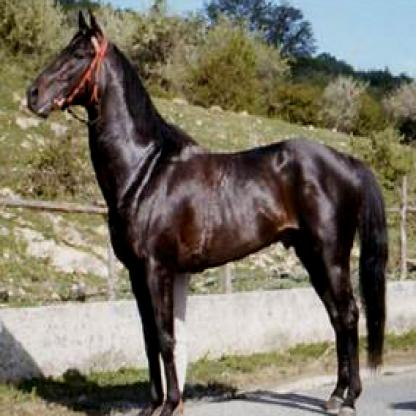horse: (26, 10, 390, 414)
